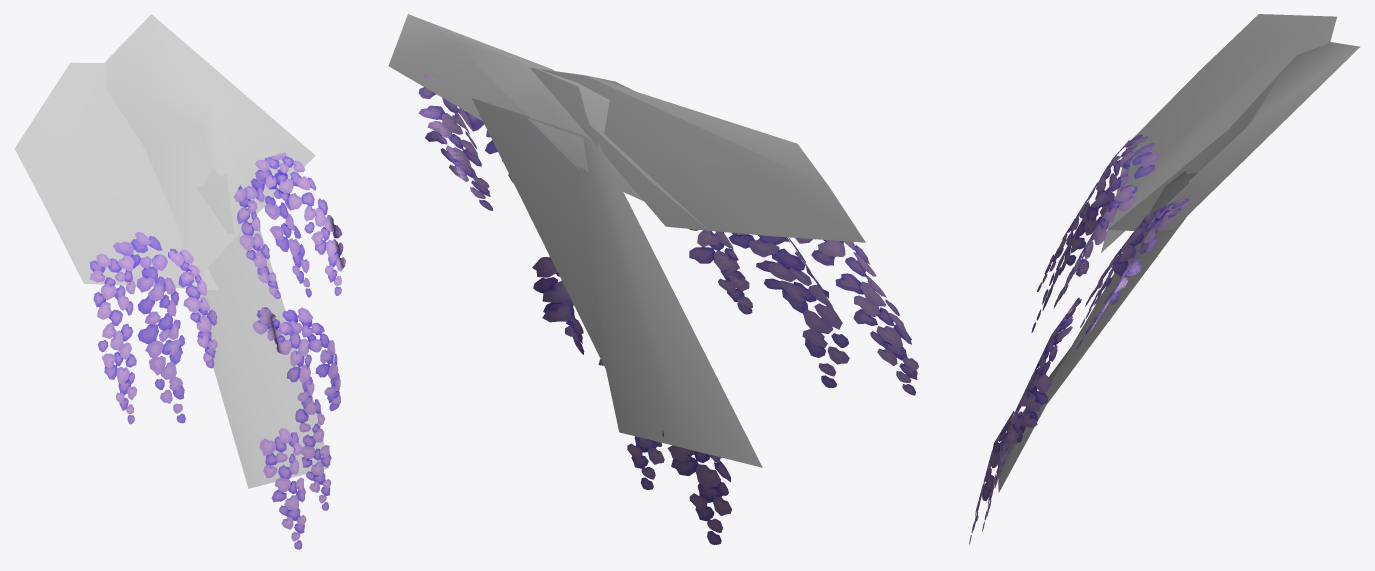
File: SM_Env_Vines_Preset_Roof_Convex_03.fbx
3 renders of one model, left to right at view 1: azimuth 30°, elevation 25°; view 2: azimuth 150°, elevation 25°; view 3: azimuth 270°, elevation 25°, orthographic. The views are drawn at different scales.
Parts seen in each view (by area): view 1: SM_Env_Vines_Preset_Roof_Convex_03; view 2: SM_Env_Vines_Preset_Roof_Convex_03; view 3: SM_Env_Vines_Preset_Roof_Convex_03.
Part boxes in pixels (x1,y1,x2,y2): SM_Env_Vines_Preset_Roof_Convex_03: (14,14,345,549); SM_Env_Vines_Preset_Roof_Convex_03: (388,14,918,544); SM_Env_Vines_Preset_Roof_Convex_03: (969,14,1360,544).
Bounding box in the file's own units: 175 × 254 × 177.
